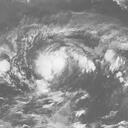cyclone: (35, 49, 67, 82)
